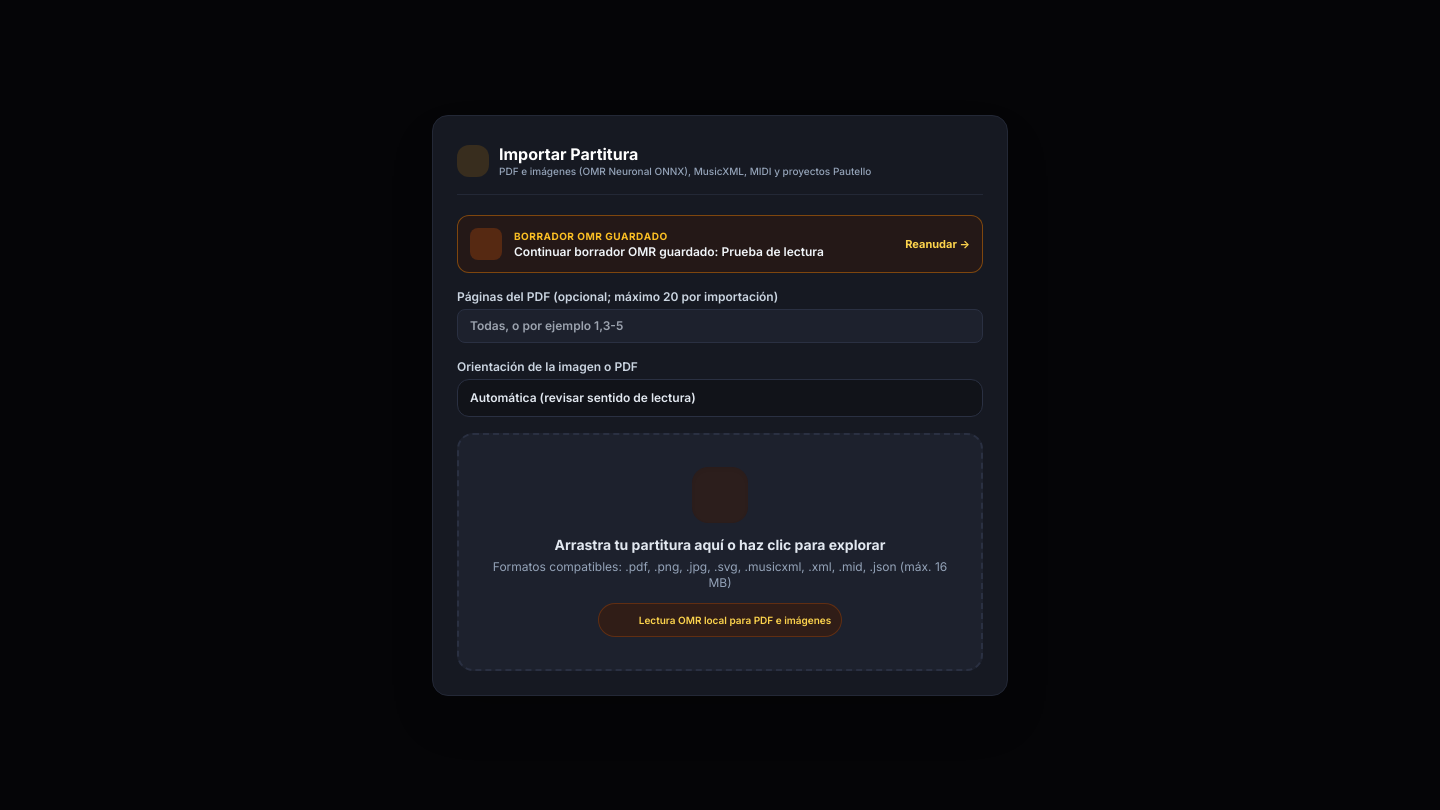
it: ImportModal: avisos OMR › recupera un borrador sin reemplazar la partitura abierta
Click the button "Continuar borrador OMR guardado": point(720, 244) [457, 214, 983, 272]
(page scrolled)
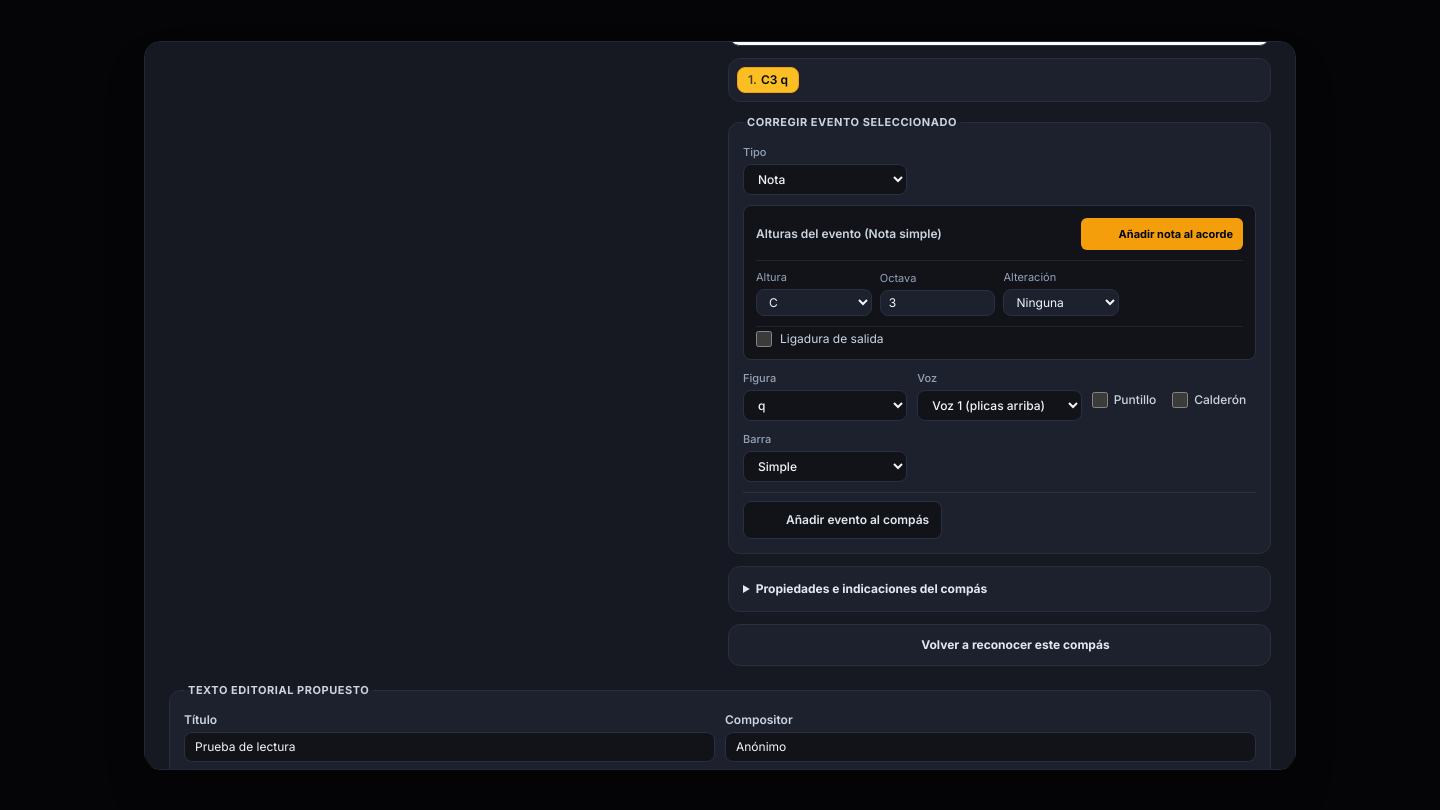
Result: the dropdown named "Figura del evento" shows "q" at [743, 390, 907, 420]
